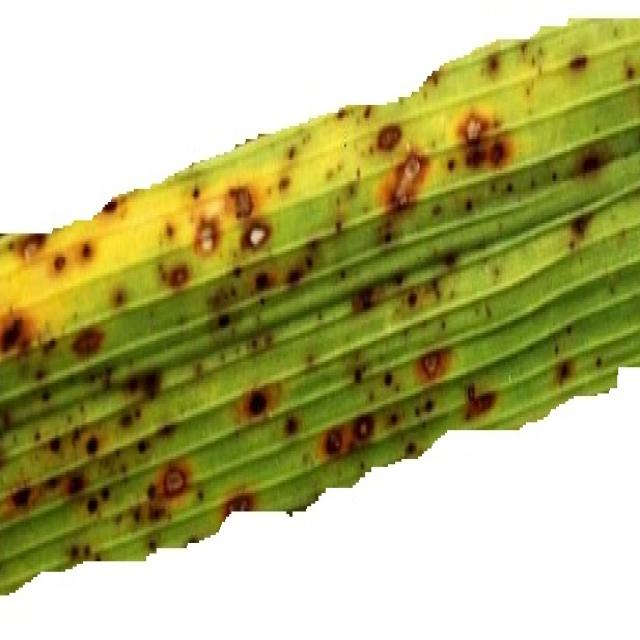Unhealthy: (183, 142, 298, 263), (350, 246, 462, 317), (369, 136, 434, 251), (112, 455, 205, 533), (445, 101, 533, 174), (0, 464, 92, 523), (98, 422, 180, 486), (30, 419, 108, 464), (85, 361, 163, 405), (231, 380, 295, 430), (318, 410, 376, 459), (0, 302, 39, 361), (282, 238, 324, 288), (359, 117, 407, 160), (412, 343, 453, 388), (49, 242, 95, 282), (570, 141, 613, 181), (519, 38, 547, 97), (206, 284, 238, 334), (69, 323, 109, 362), (463, 381, 499, 423), (551, 339, 578, 393), (218, 490, 256, 527), (156, 254, 191, 292), (63, 539, 104, 569), (98, 189, 136, 221), (80, 481, 112, 519), (568, 208, 596, 251), (0, 233, 50, 257), (0, 400, 15, 473), (246, 262, 279, 294), (116, 395, 147, 428), (413, 390, 438, 429), (480, 47, 504, 83), (277, 412, 303, 441), (333, 191, 348, 239), (345, 159, 361, 204), (32, 368, 50, 404), (566, 50, 590, 75), (449, 193, 475, 215), (323, 160, 346, 183), (301, 347, 321, 372), (41, 332, 58, 359), (163, 213, 178, 243), (428, 195, 446, 220), (403, 439, 425, 459), (353, 360, 370, 385), (383, 369, 400, 393), (386, 407, 402, 429), (423, 67, 439, 88), (145, 535, 159, 556), (624, 63, 638, 83), (335, 107, 351, 124), (231, 263, 246, 280), (113, 288, 126, 306), (361, 103, 373, 121), (505, 178, 515, 194), (594, 353, 603, 370), (566, 319, 573, 338), (551, 167, 558, 185), (338, 268, 347, 281), (368, 389, 376, 403), (316, 308, 324, 320), (530, 176, 536, 192), (359, 459, 365, 471), (259, 297, 265, 307)
